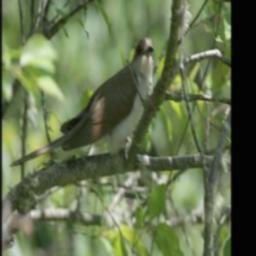Cuckoo: (8, 33, 153, 172)
